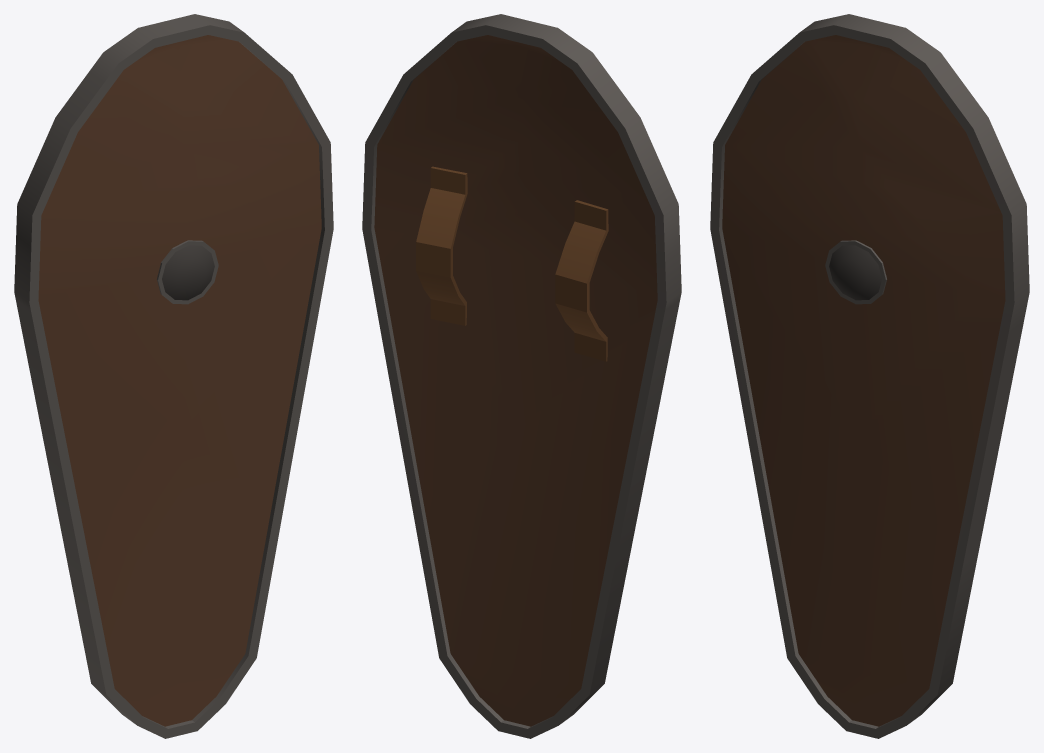
Rendered from Kite Shield_Brown.fbx.
The picture shows the model from 3 angles, left to right: view 1: azimuth 30°, elevation 25°; view 2: azimuth 150°, elevation 25°; view 3: azimuth 330°, elevation 25°; orthographic projection.
Visible parts, largest first — view 1: Kite Shield_Brown_Baked; view 2: Kite Shield_Brown_Baked; view 3: Kite Shield_Brown_Baked.
Boxes of the visible parts, bbox=[...] form: Kite Shield_Brown_Baked: bbox=[14, 14, 333, 738]; Kite Shield_Brown_Baked: bbox=[362, 14, 681, 738]; Kite Shield_Brown_Baked: bbox=[710, 14, 1029, 738].
Size of the model in its own units: 43.23 by 95.42 by 9.4.
Materials: 1 (1 with a texture image).
